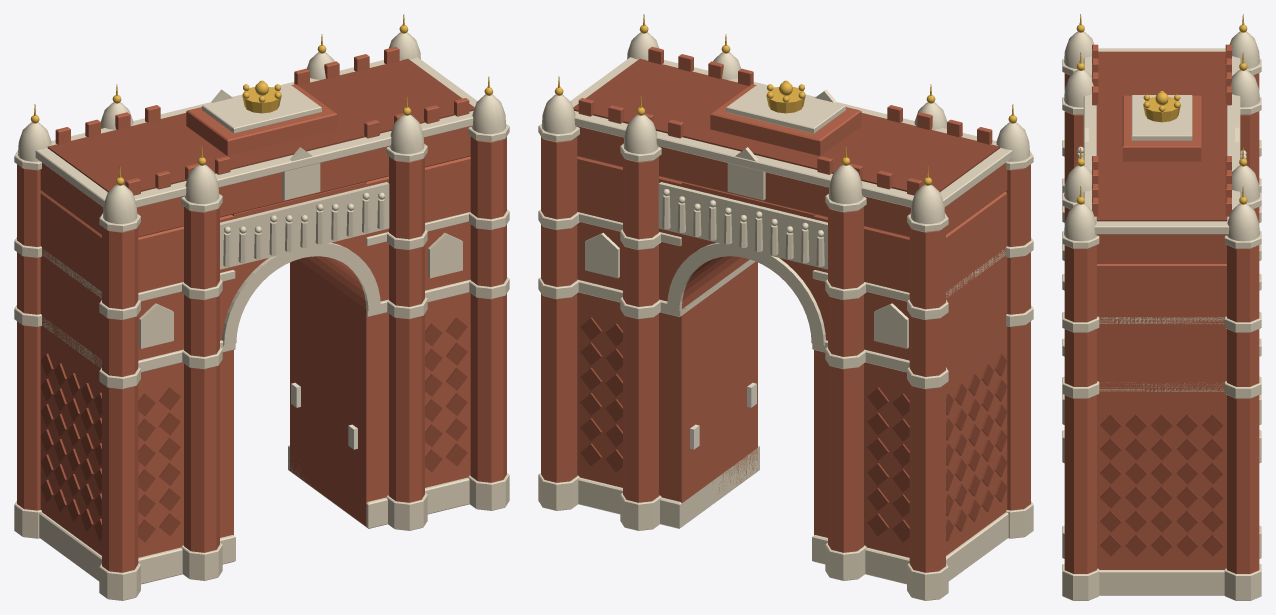
File: arc-de-triomf.glb
The picture shows the model from 3 angles, left to right: view 1: azimuth 30°, elevation 25°; view 2: azimuth 150°, elevation 25°; view 3: azimuth 270°, elevation 25°; orthographic projection. The views are drawn at different scales.
Parts seen in each view (by area): view 1: arc-de-triomf; view 2: arc-de-triomf; view 3: arc-de-triomf.
Boxes of the visible parts, box(x1,y1,x2,y2) form: arc-de-triomf: box(14, 14, 509, 600); arc-de-triomf: box(538, 14, 1033, 600); arc-de-triomf: box(1062, 14, 1261, 600).
Size of the model in its own units: 29.24 by 30.15 by 13.14.
